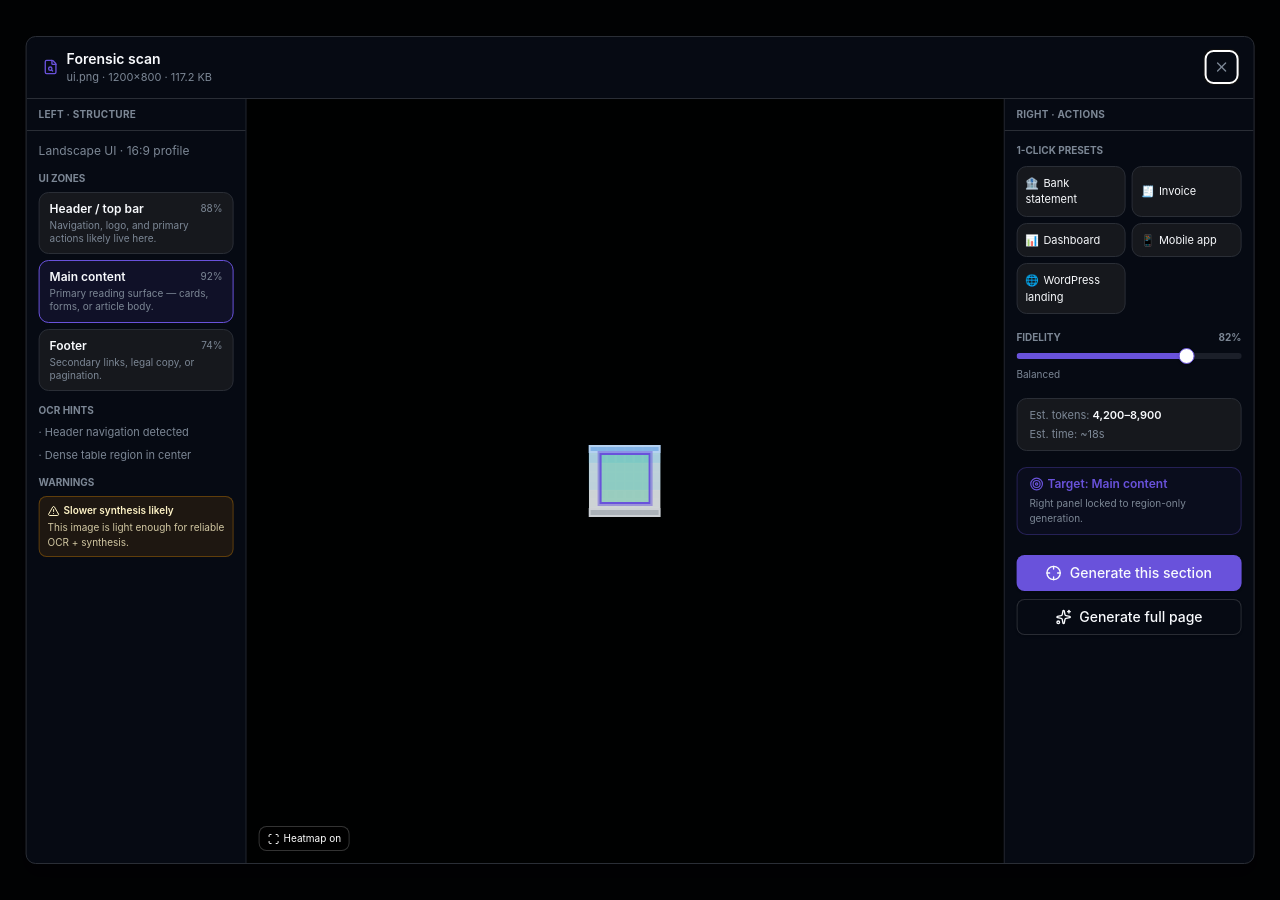
Test case: buttons › forensic-lightbox › Heatmap toggle — switches label off/on
Click the button "Heatmap on" at (304,838), box [259,826,350,851]
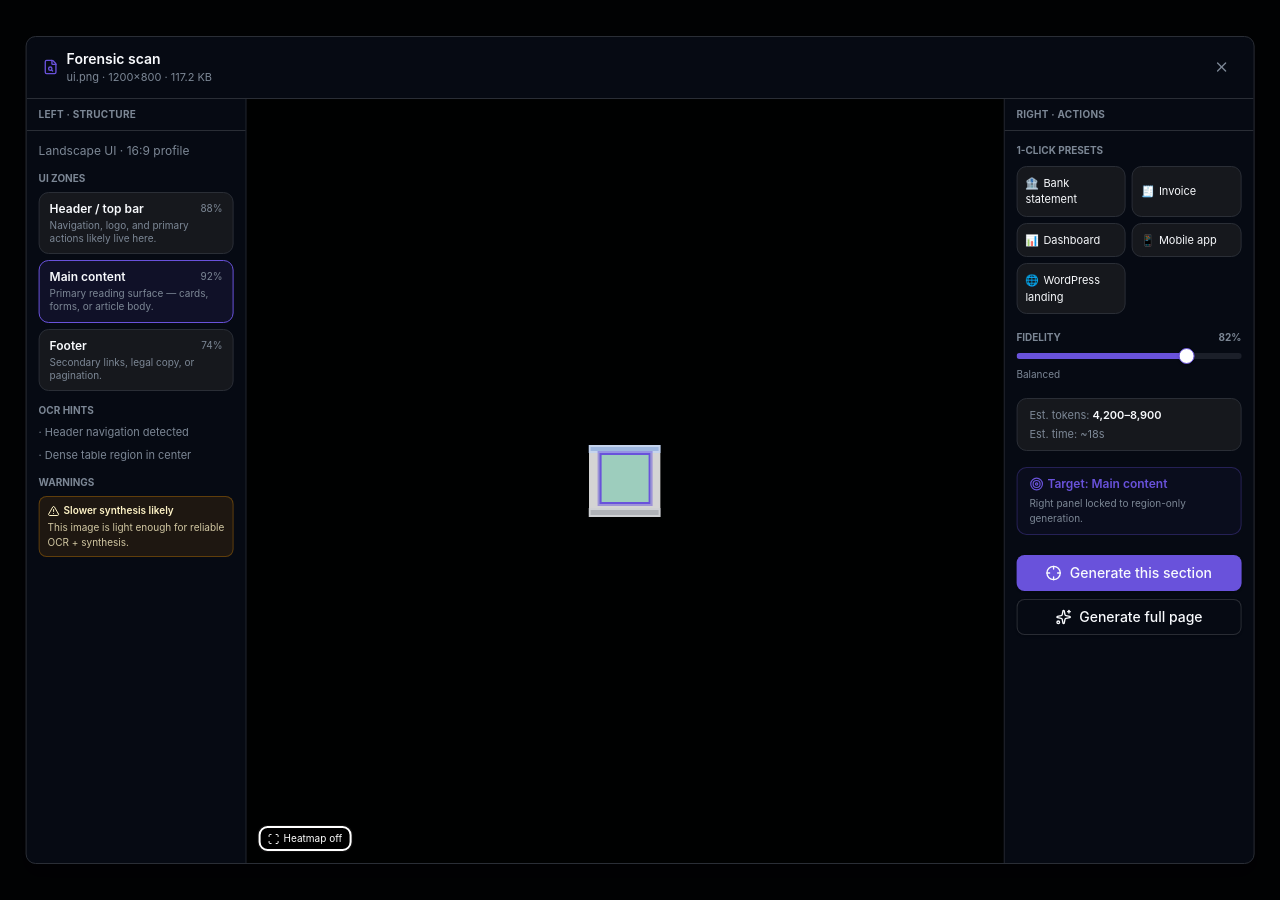
Expected: the button "Heatmap off" is shown
Click the button "Heatmap off" at (305,838), box [259,826,351,851]
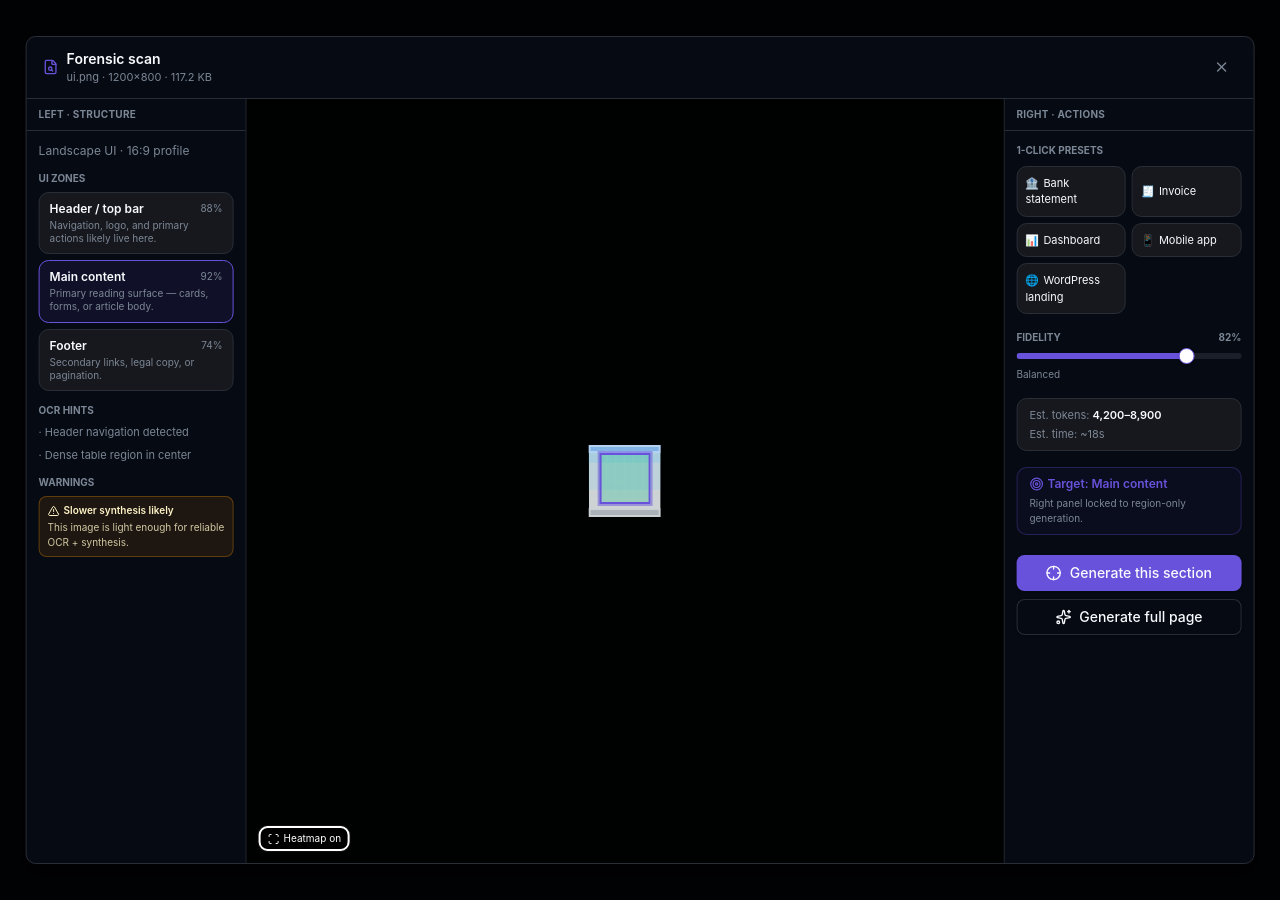
Expected: the button "Heatmap on" is shown, [259,826,350,851]
